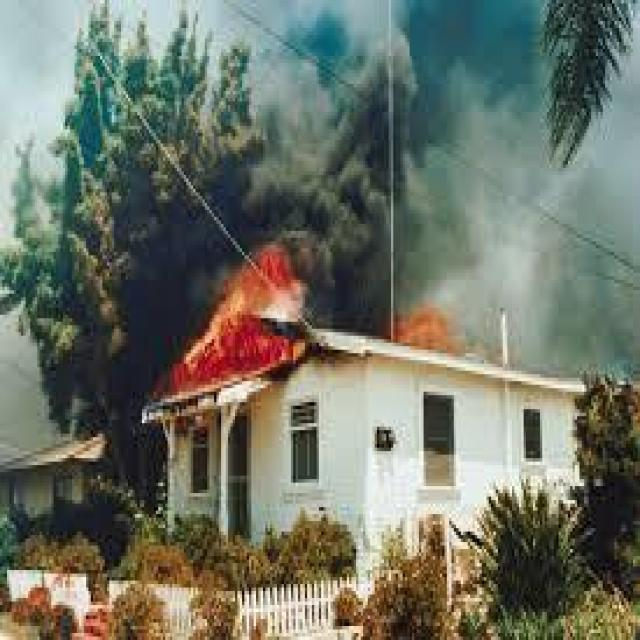Fire: (175, 250, 312, 380), (402, 296, 470, 375)
Smoke: (396, 72, 638, 290), (314, 34, 402, 356), (194, 42, 311, 230), (120, 196, 196, 342)
